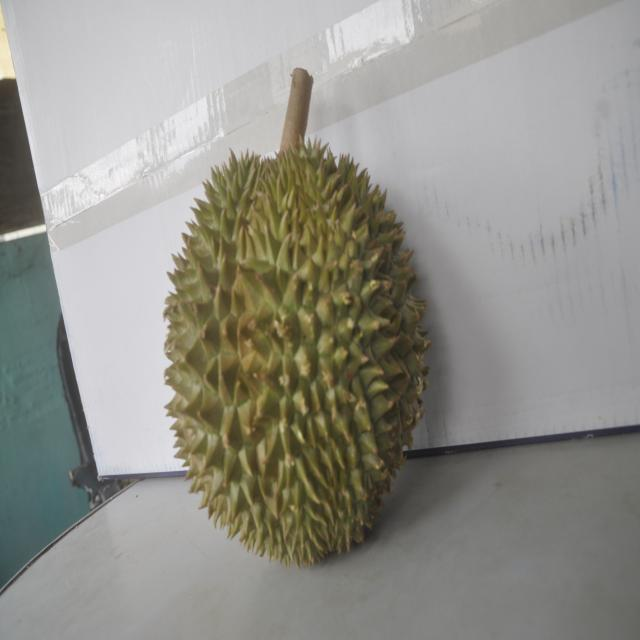mature: (161, 128, 422, 569)
